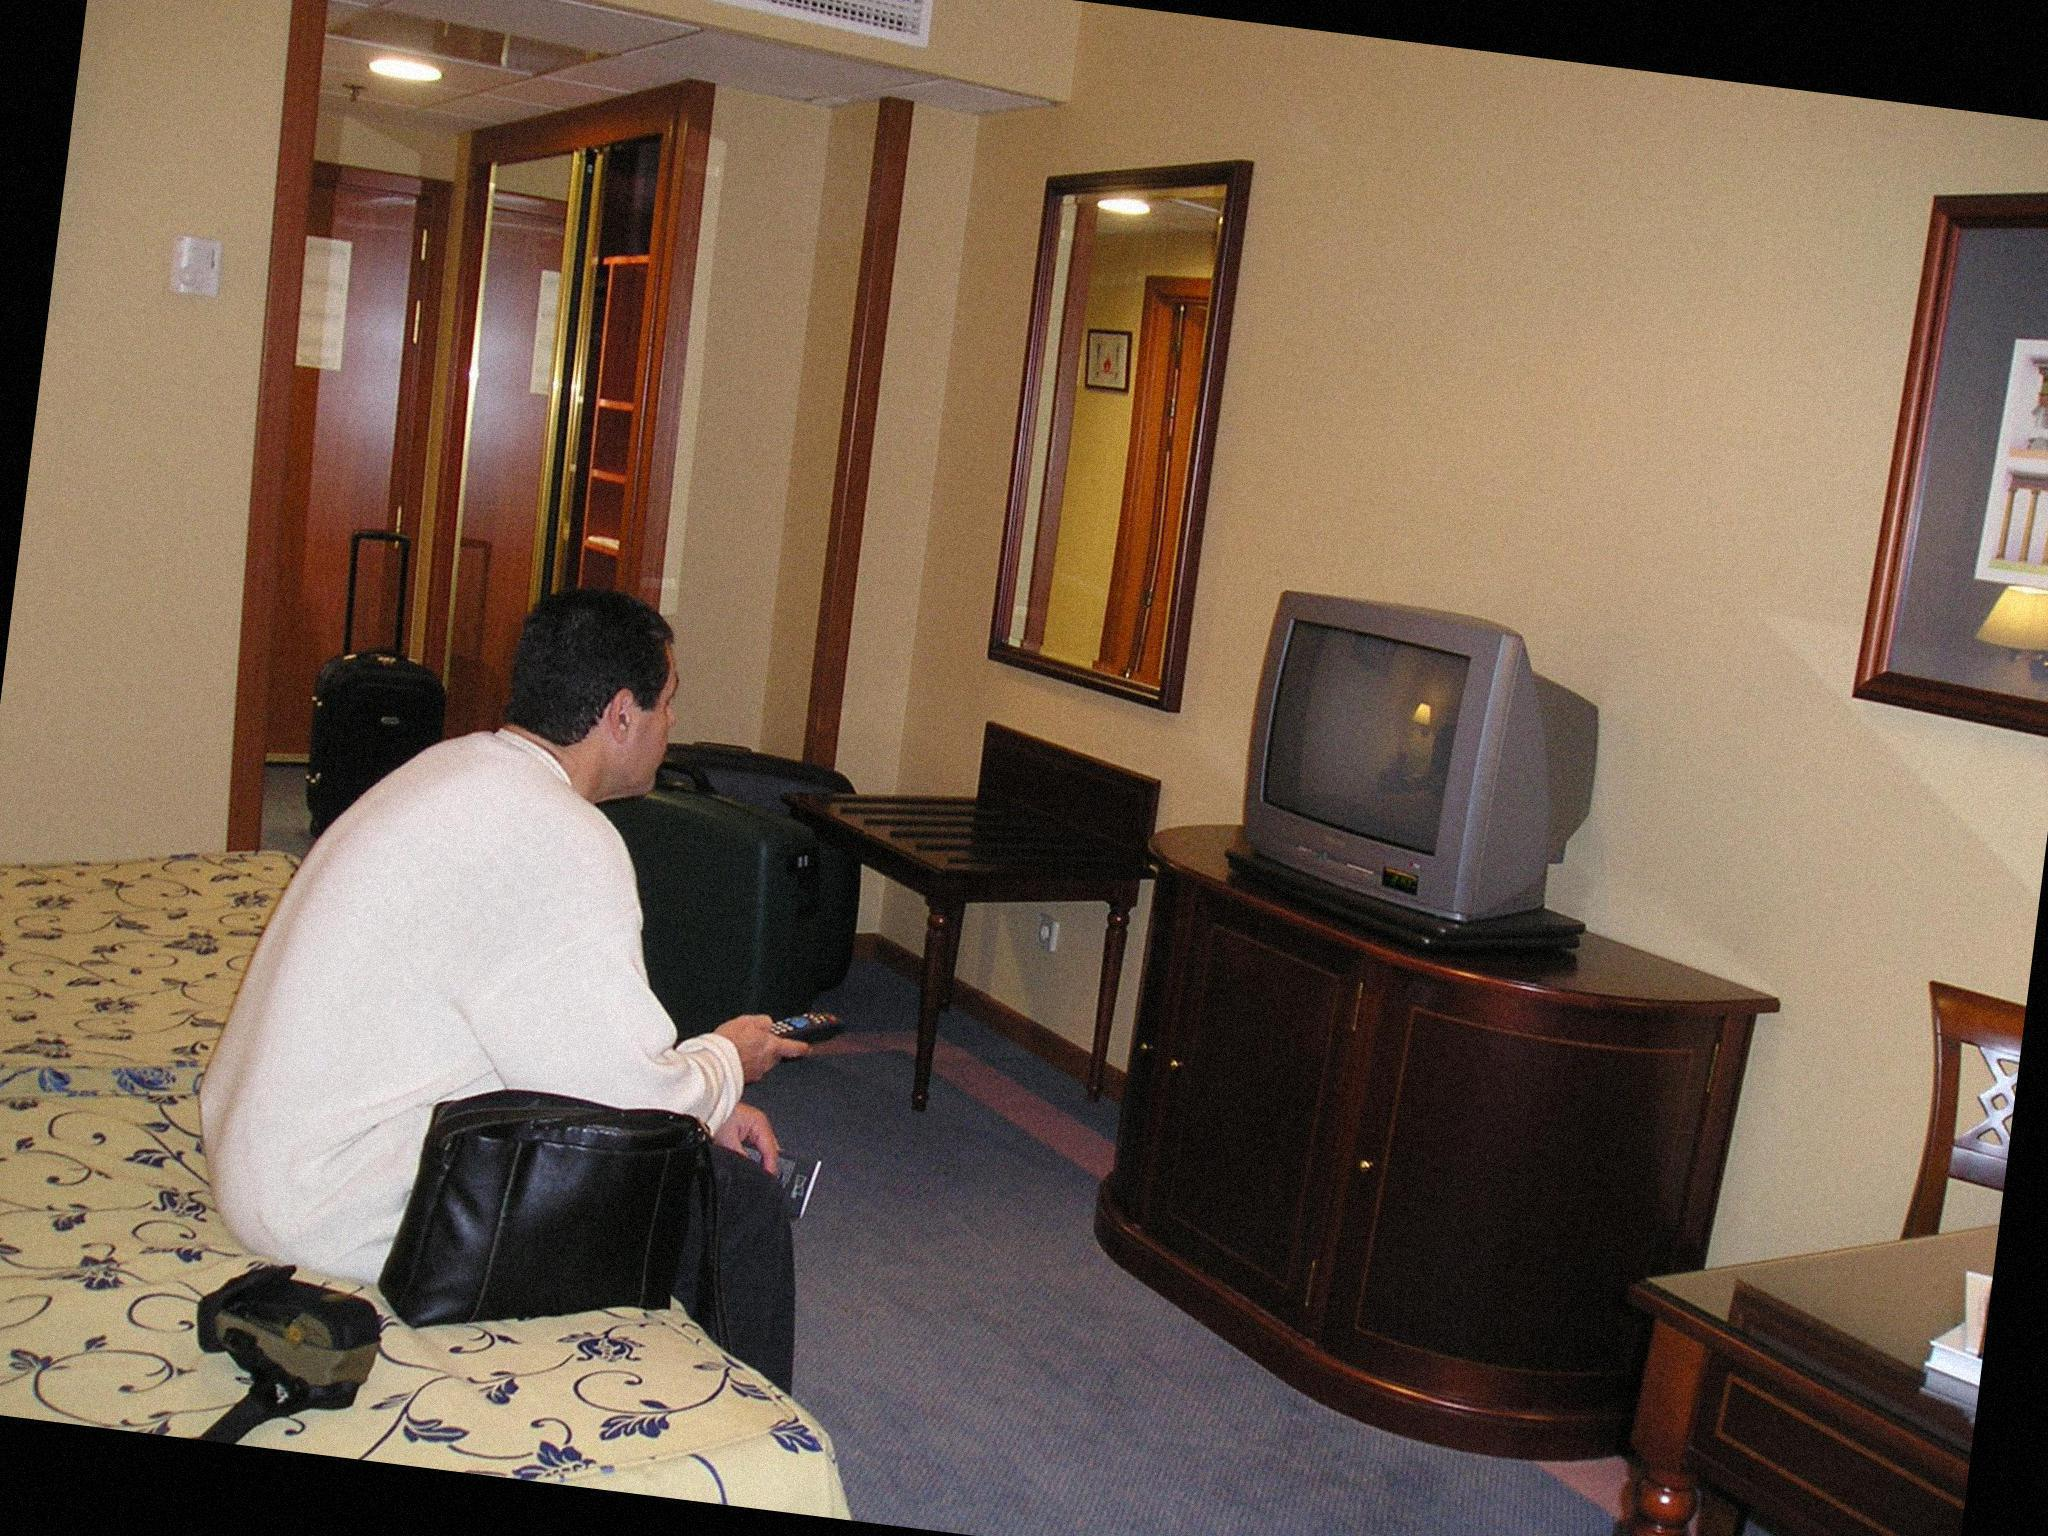Puerta: (249, 181, 441, 759)
